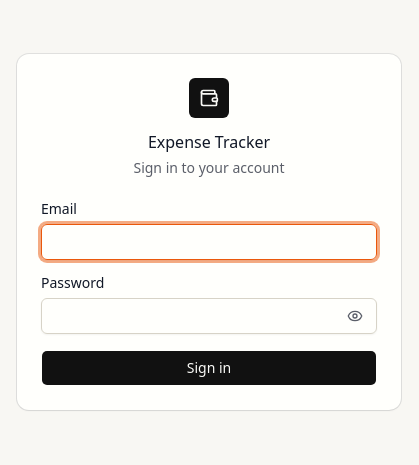
/auth/login › shows the generic auth-error message on signIn failure (no provider detail leaked)
In the field labelled "Email": {"x": 209, "y": 242} [41, 224, 377, 260], type "alice@example.com"
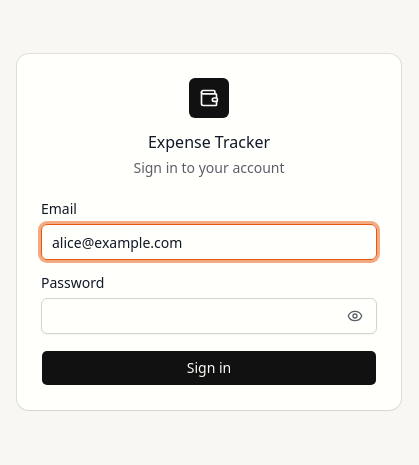
In the password field labelled "Password": {"x": 209, "y": 316} [41, 298, 377, 334], type "bad"
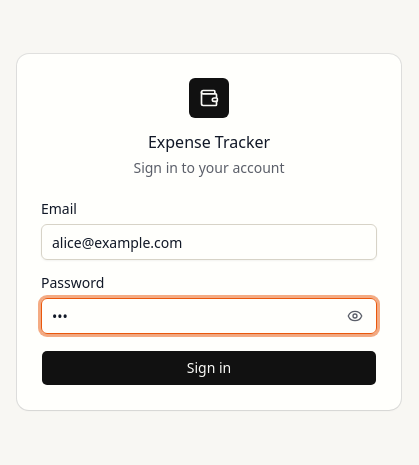
Click the button "Sign in": {"x": 209, "y": 368} [41, 350, 377, 386]
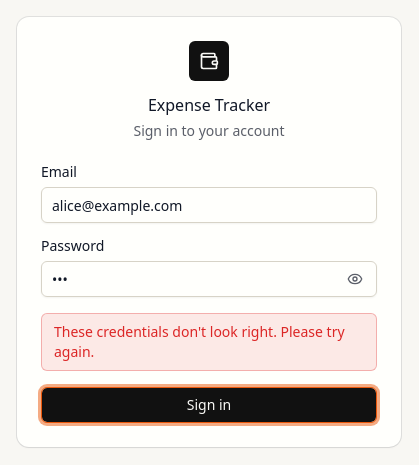
expect the text "These credentials don't look right. Please try again." is shown: met, box [41, 313, 377, 371]
